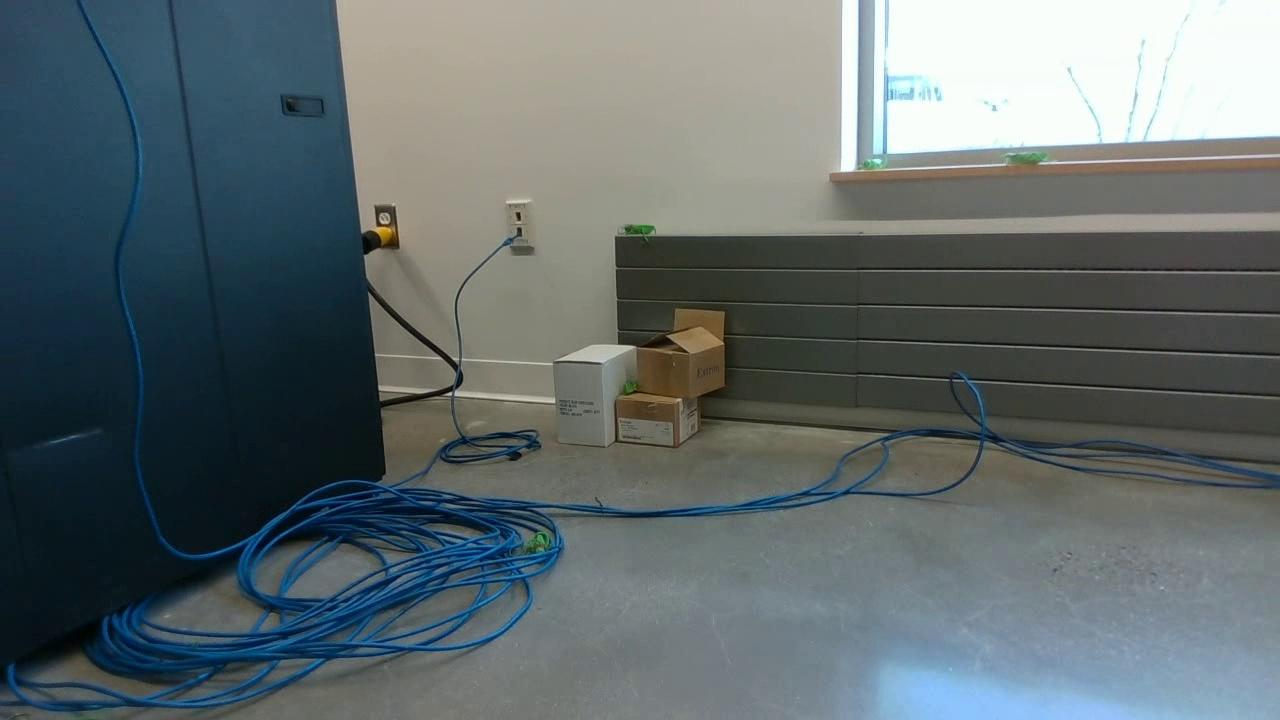grasshopper: (518, 525, 568, 568), (999, 143, 1057, 176), (612, 216, 665, 240), (859, 148, 887, 177), (616, 379, 642, 400)
